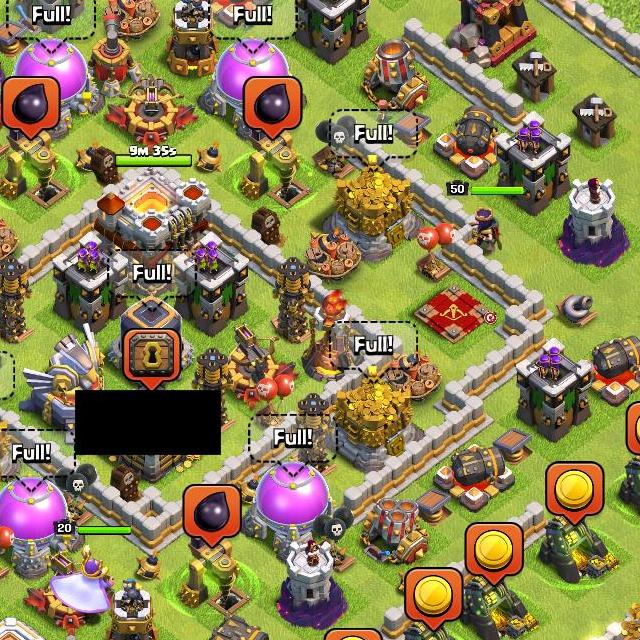FullCoin: (404, 567, 464, 633), (467, 522, 524, 586), (547, 462, 604, 524), (627, 402, 640, 455), (323, 629, 383, 640)
FullElixirNegro: (243, 76, 302, 142), (183, 484, 242, 550), (1, 78, 60, 138)
